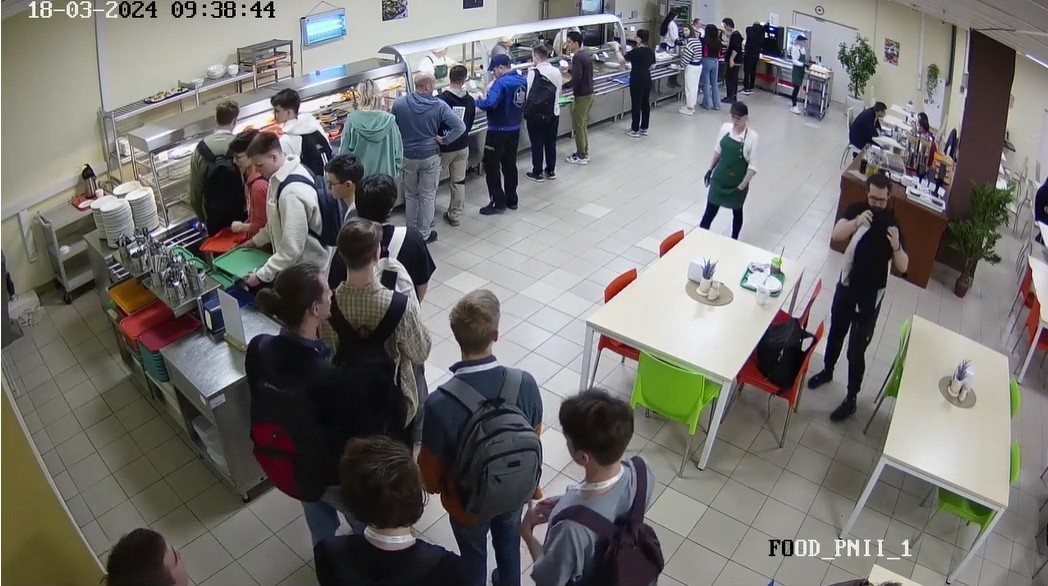Na_Kasse: (723, 17, 747, 102), (700, 21, 723, 107), (679, 23, 700, 113), (747, 15, 763, 91)
Ne_v_Ocheredi: (419, 290, 543, 560), (527, 379, 668, 586), (298, 447, 497, 586), (237, 264, 358, 489), (829, 174, 903, 419), (325, 223, 413, 425), (83, 518, 239, 586), (350, 173, 417, 254), (317, 160, 365, 251)
Personal: (697, 102, 764, 232), (489, 27, 530, 62), (788, 32, 807, 107), (417, 39, 451, 71), (659, 4, 678, 42), (688, 10, 701, 28)
Vybiraet: (233, 138, 327, 295), (476, 57, 530, 208), (397, 78, 446, 243), (185, 94, 241, 232), (435, 65, 473, 222), (343, 76, 396, 179), (559, 30, 600, 161), (524, 44, 560, 176), (224, 123, 262, 228), (269, 91, 328, 156), (625, 27, 657, 139)
Za_Stolom: (838, 101, 886, 160), (1028, 168, 1048, 239), (909, 113, 947, 149)
